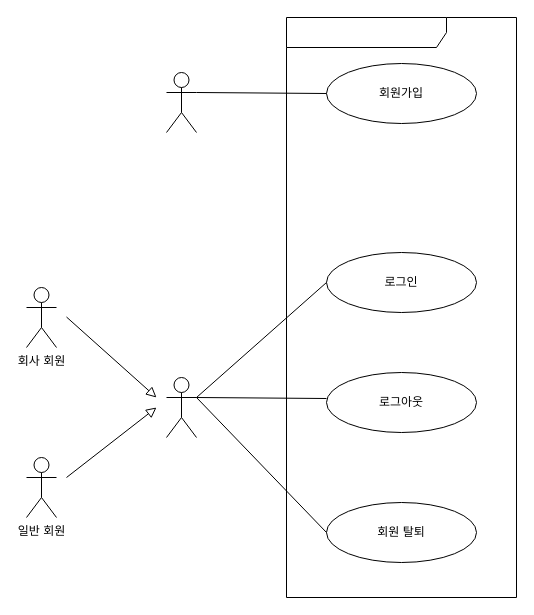
Image size: 534x615. Some labels were removed from this diagram. The box of each missing label's shape, as (x1, y1, x2, y2) in pixels:
사용자: (166, 72, 196, 132)
회원: (166, 376, 196, 438)
회원관리 시스템: (286, 16, 516, 598)
